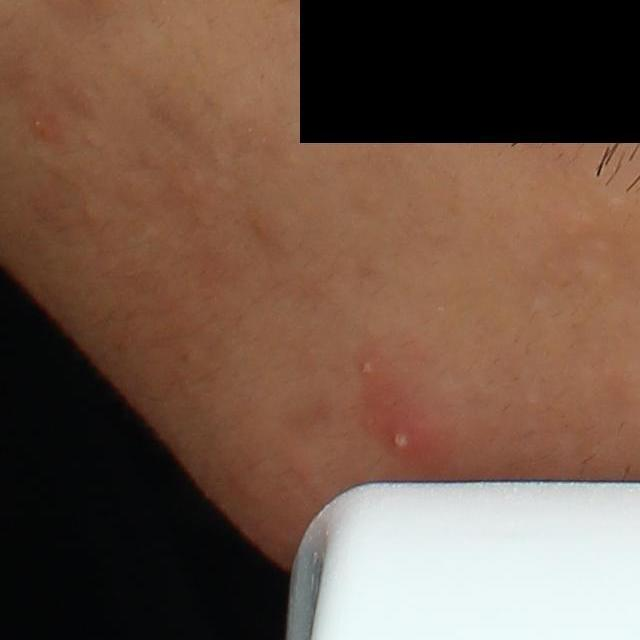hypertrophic_scar: (569, 258, 613, 288), (602, 192, 633, 216)
papule: (23, 105, 69, 152)
pustule: (382, 412, 432, 460)
